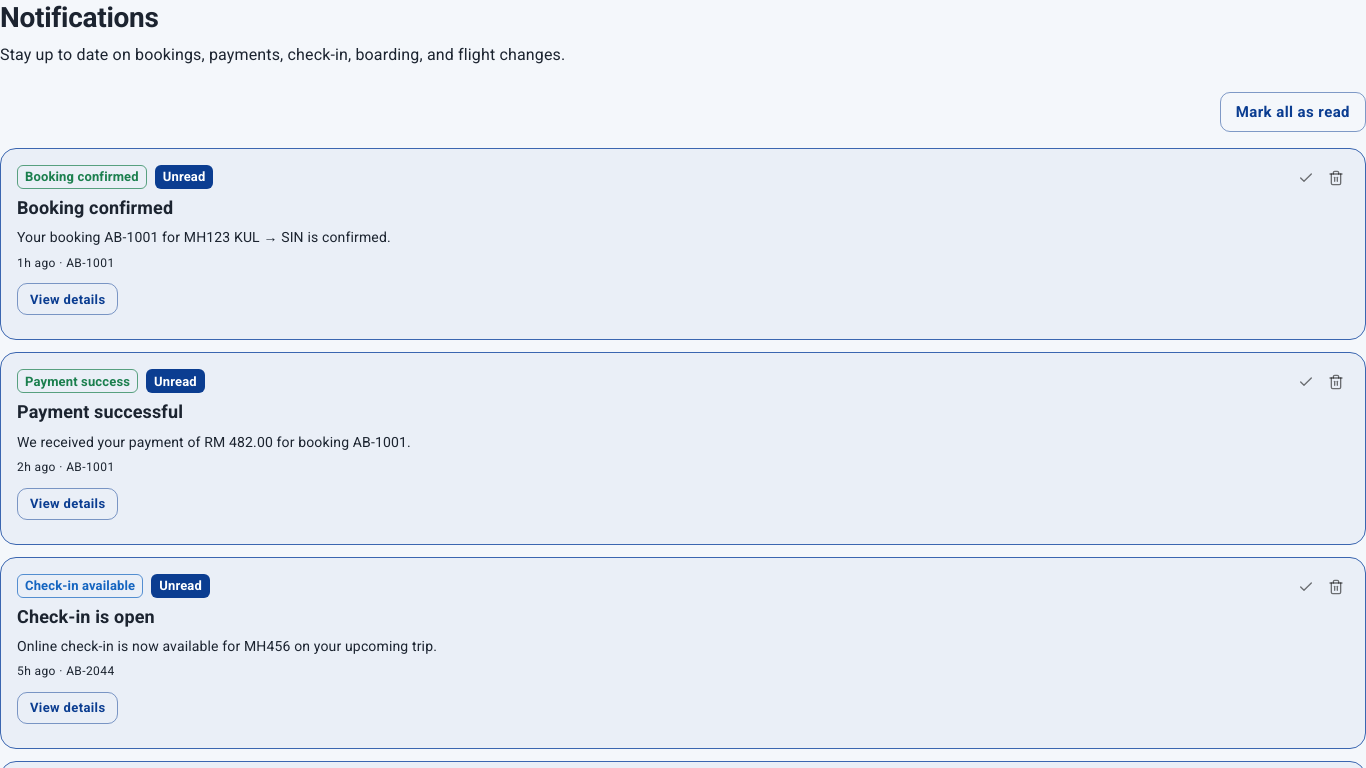
NotificationPage › deletes a notification
This screenshot has width=1366, height=768.
Expected: the heading "Booking confirmed" is shown, [17,197,173,218]
Click the button named "Delete \"Booking confirmed\"" at (1336, 178), box [1323,165,1349,191]
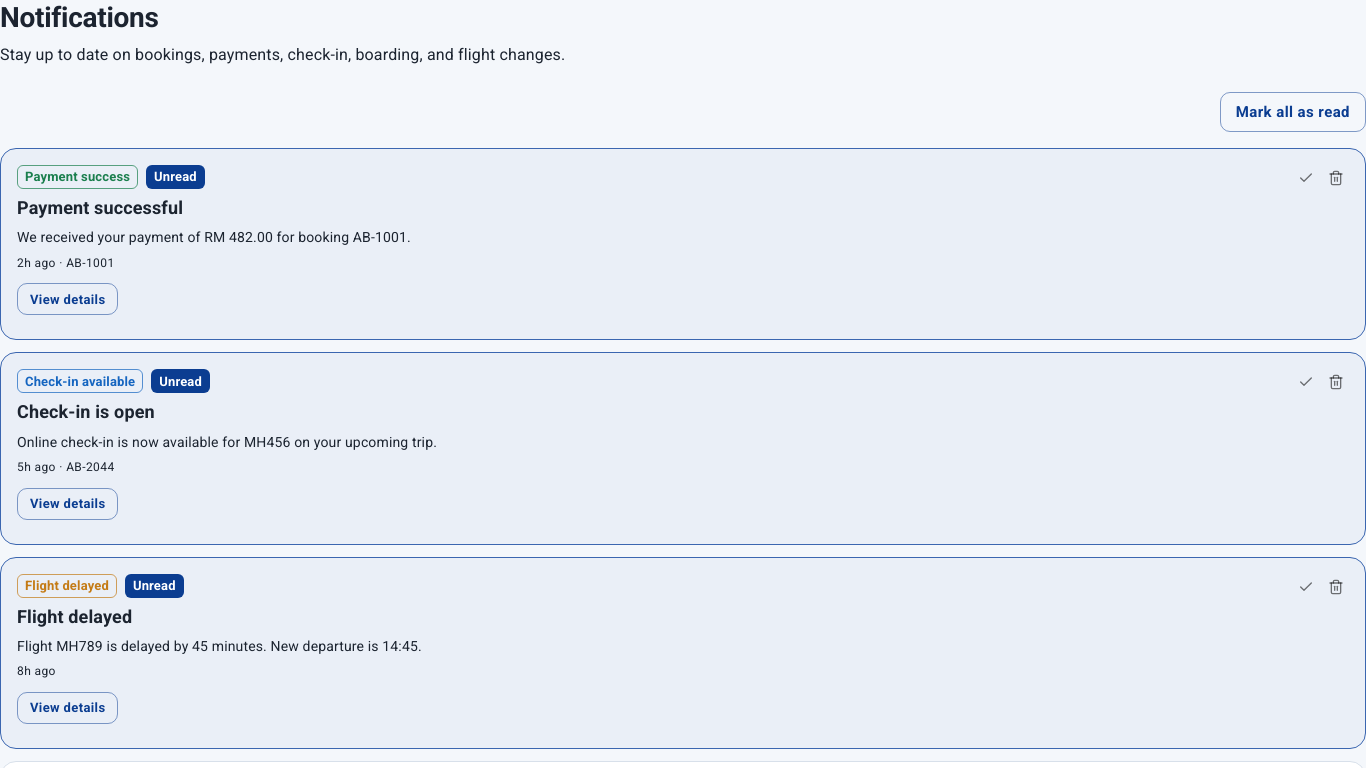
Expected: the text "Booking confirmed" is gone
